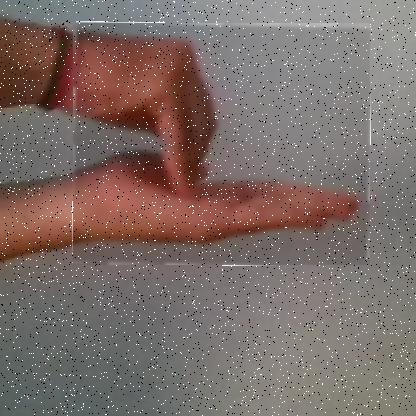Z: (73, 23, 371, 266)
